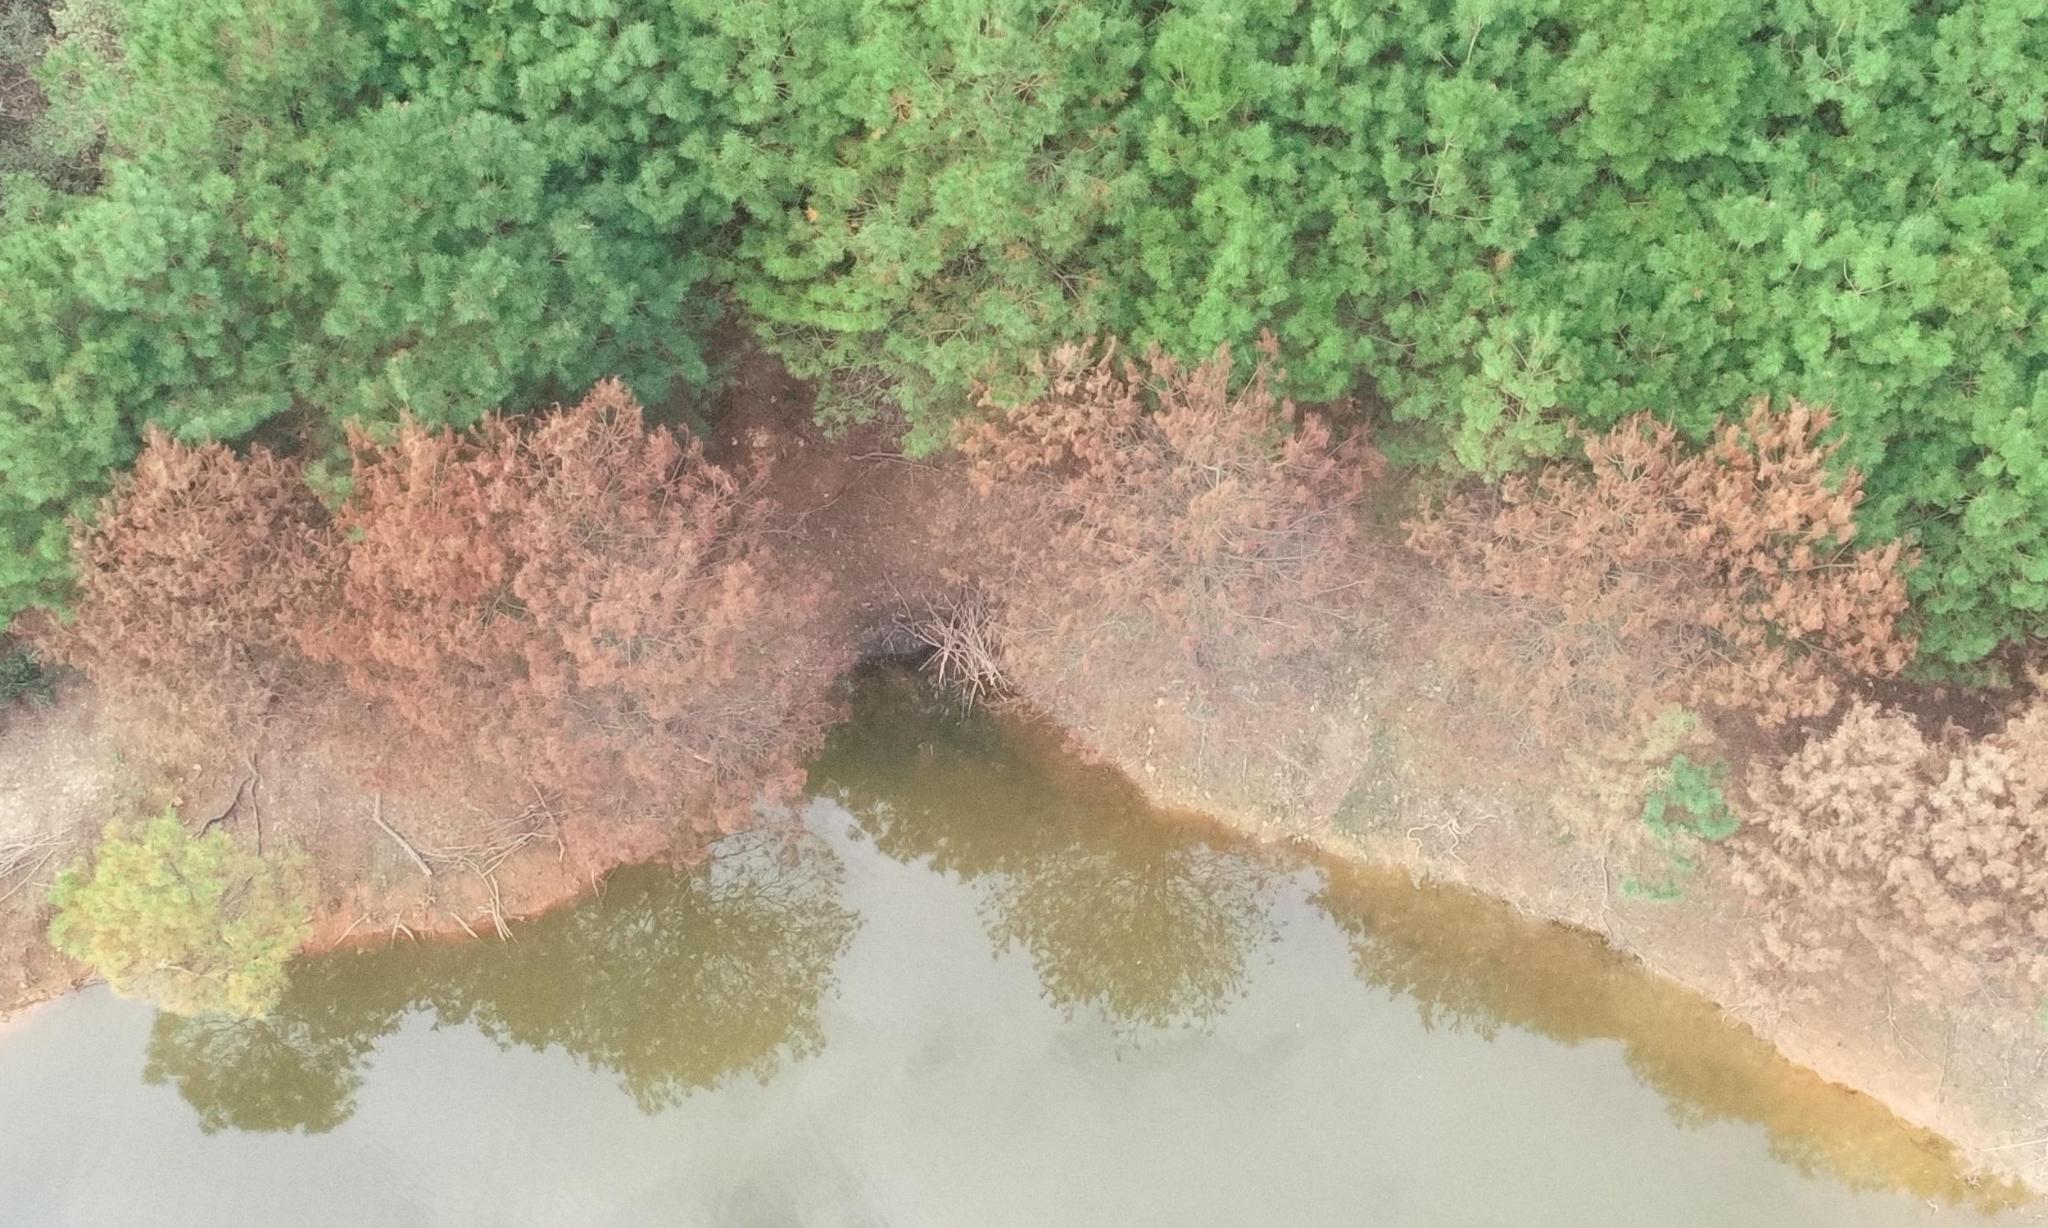heavy: (34, 409, 848, 899), (962, 339, 1358, 808), (1421, 389, 1895, 690), (1757, 708, 2048, 990)
